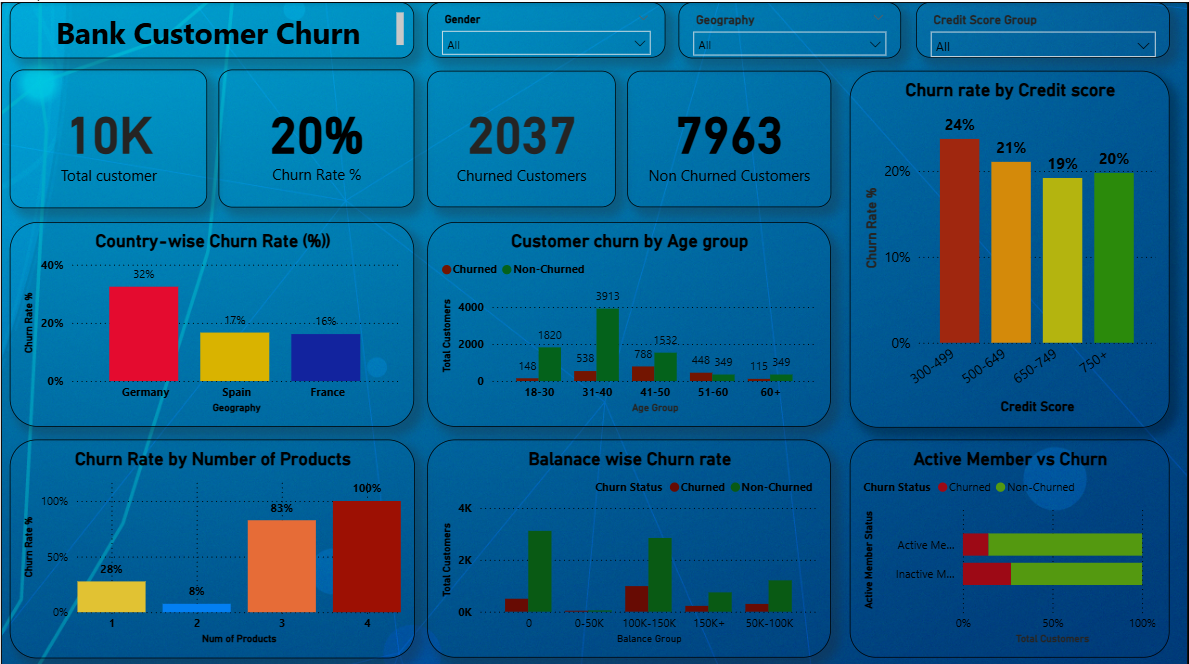

This screenshot's page, from the dashboard's own definition file:
{"tool":"powerbi","page":{"name":"Page 1","canvas":[1280,720],"ordinal":0},"visuals":[{"type":"textbox","box":[9.6,0,436.1,60.8],"z":0},{"type":"card","fields":{"Values":["CountNonNull(churn.CustomerId)"]},"box":[10.1,72.2,213.1,149.3],"z":1000},{"type":"card","fields":{"Values":["churn.Churn Rate %"]},"box":[234.3,72.9,211.4,148.6],"z":2000},{"type":"card","fields":{"Values":["churn.Churned Customers"]},"box":[459.6,74.1,203,147.6],"z":3000},{"type":"card","fields":{"Values":["churn.Non Churned Customers"]},"box":[674.7,74.1,219.9,147.6],"z":4000},{"type":"clusteredColumnChart","title":"Country-wise Churn Rate (%))","fields":{"Y":["churn.Churn Rate %"],"Category":["churn.Geography"]},"box":[9.6,237.3,436.1,221.1],"z":5000},{"type":"clusteredColumnChart","title":"Customer churn by Age group","fields":{"Category":["churn.Age Group"],"Y":["churn.Total Customers"],"Series":["churn.Churn Status"]},"box":[459.6,237.2,435.3,221],"z":6000},{"type":"clusteredColumnChart","title":"Churn Rate by Number of Products","fields":{"Category":["churn.NumOfProducts"],"Y":["churn.Churn Rate %"]},"box":[9.4,471.7,436.6,235.8],"z":7000},{"type":"clusteredColumnChart","title":"Balanace wise Churn rate","fields":{"Category":["churn.Balance Group"],"Series":["churn.Churn Status"],"Y":["churn.Total Customers"]},"box":[459.7,471.7,435.5,235.3],"z":8000},{"type":"clusteredColumnChart","title":"Churn rate by Credit  score","fields":{"Category":["churn.Credit Score Group"],"Y":["churn.Churn Rate %"]},"box":[915.7,73.6,345,384.9],"z":9000},{"type":"slicer","fields":{"Values":["churn.Gender"]},"box":[459.7,0,257,60.3],"z":10000},{"type":"slicer","fields":{"Values":["churn.Geography"]},"box":[730.4,0,239.9,60.6],"z":11000},{"type":"slicer","fields":{"Values":["churn.Credit Score Group"]},"box":[986.9,0,273.9,60.3],"z":12000},{"type":"actionButton","box":[0,0,100,40],"z":13000},{"type":"hundredPercentStackedBarChart","title":"Active Member vs Churn","fields":{"Y":["churn.Total Customers"],"Series":["churn.Churn Status"],"Category":["churn.Active Member Status"]},"box":[915.7,471.7,345,235.3],"z":14000}]}

Visuals, with their boxes in screenshot pixels (x1, y1, x2, y2), scaled from the page's 1280x720 canvas onto the 1189x664 screenshot:
textbox: locate(9, 0, 414, 56)
card - CountNonNull(churn.CustomerId): locate(9, 67, 207, 204)
card - churn.Churn Rate %: locate(218, 67, 414, 204)
card - churn.Churned Customers: locate(427, 68, 615, 204)
card - churn.Non Churned Customers: locate(627, 68, 831, 204)
"Country-wise Churn Rate (%))" clusteredColumnChart: locate(9, 219, 414, 423)
"Customer churn by Age group" clusteredColumnChart: locate(427, 219, 831, 423)
"Churn Rate by Number of Products" clusteredColumnChart: locate(9, 435, 414, 652)
"Balanace wise Churn rate" clusteredColumnChart: locate(427, 435, 832, 652)
"Churn rate by Credit  score" clusteredColumnChart: locate(851, 68, 1171, 423)
slicer - churn.Gender: locate(427, 0, 666, 56)
slicer - churn.Geography: locate(678, 0, 901, 56)
slicer - churn.Credit Score Group: locate(917, 0, 1171, 56)
actionButton: locate(0, 0, 93, 37)
"Active Member vs Churn" hundredPercentStackedBarChart: locate(851, 435, 1171, 652)
